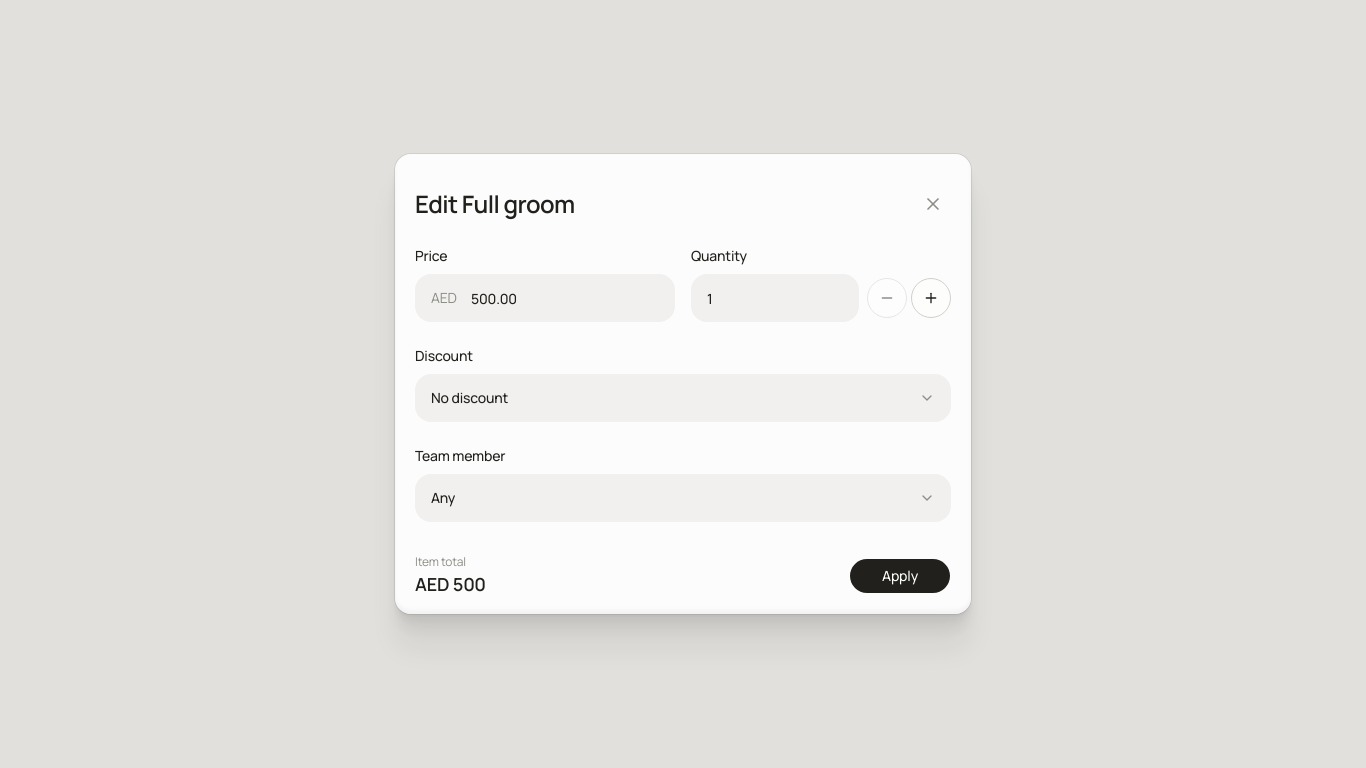
Scenario: which deals a line may take › offers the ones running at this sale's branch
Click the dropdown labelled "discount": (470, 398) [415,374,951,422]
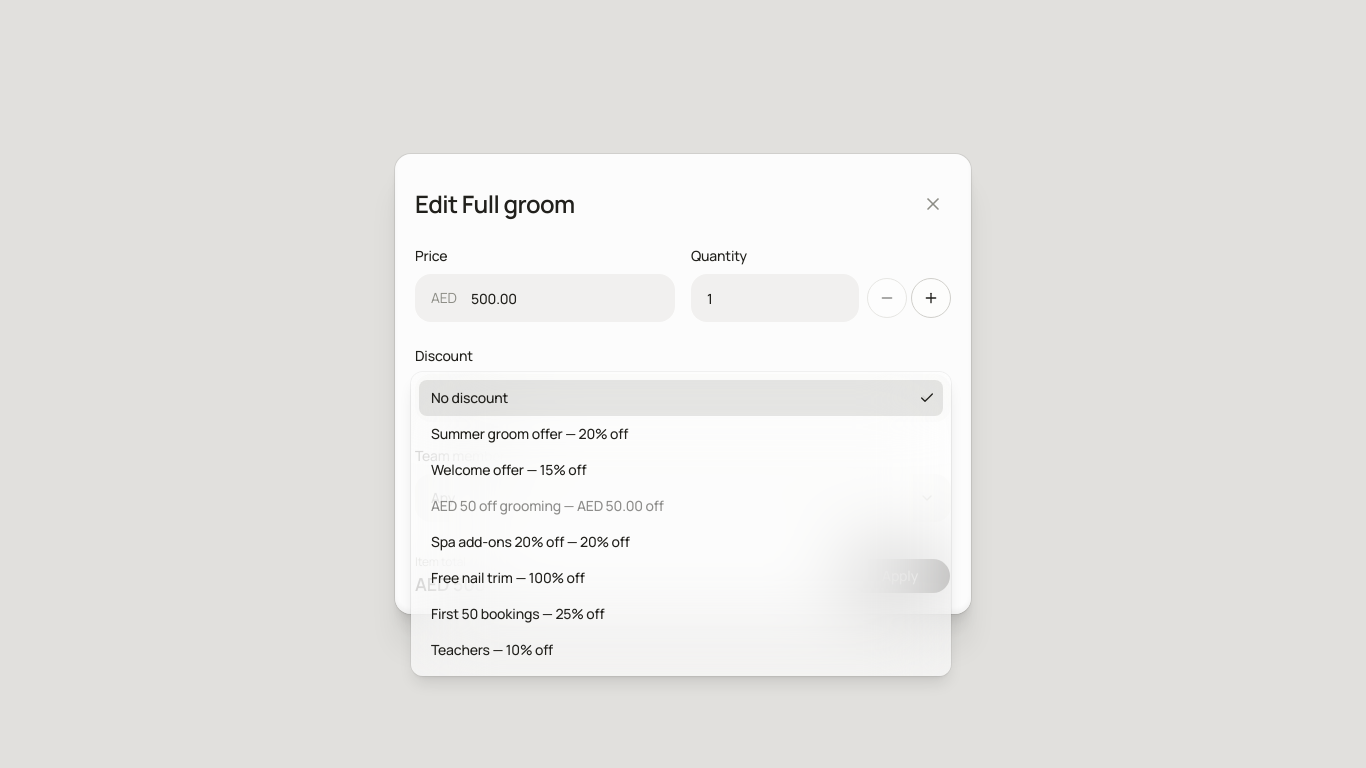
Result: the text "Summer groom offer — 20% off" is shown at [431,424,628,444]
